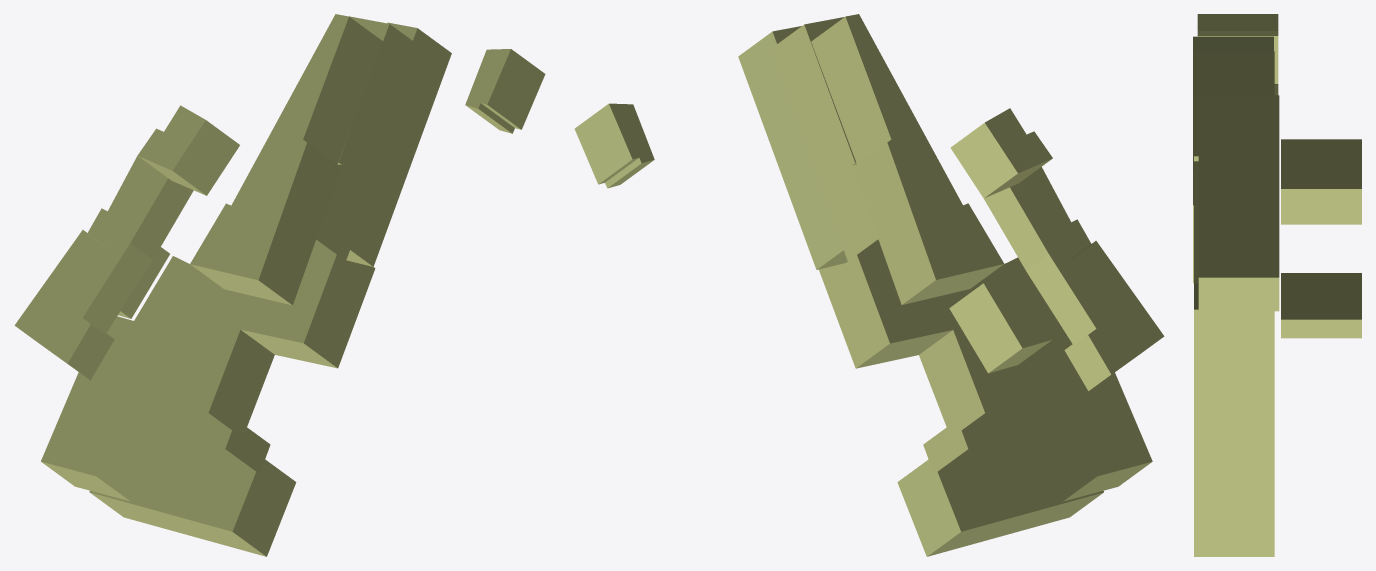
The picture shows the model from 3 angles, left to right: view 1: azimuth 30°, elevation 25°; view 2: azimuth 150°, elevation 25°; view 3: azimuth 270°, elevation 25°; orthographic projection. The views are drawn at different scales.
Visible parts, largest first — view 1: 0_0_1_3_1_1_2_3; view 2: 0_0_1_3_1_1_2_3; view 3: 0_0_1_3_1_1_2_3.
Boxes of the visible parts, box(x1,y1,x2,y2) form: 0_0_1_3_1_1_2_3: box(14, 14, 545, 556); 0_0_1_3_1_1_2_3: box(574, 14, 1164, 556); 0_0_1_3_1_1_2_3: box(1193, 14, 1361, 556).
Bounding box in the file's own units: 80.43 × 71.21 × 18.8.
